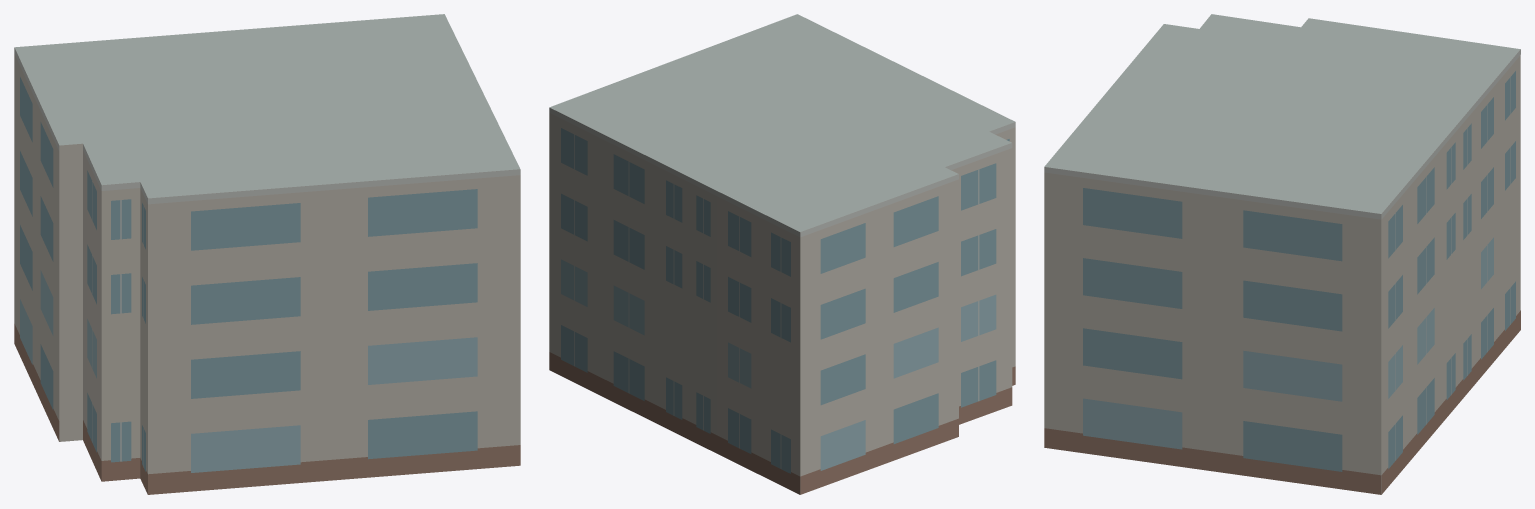
File: survey-upis-32663503.glb
3 renders of one model, left to right at view 1: azimuth 30°, elevation 25°; view 2: azimuth 150°, elevation 25°; view 3: azimuth 270°, elevation 25°, orthographic. The views are drawn at different scales.
Parts seen in each view (by area): view 1: survey-upis-32663503.tmp; view 2: survey-upis-32663503.tmp; view 3: survey-upis-32663503.tmp.
Part boxes in pixels (x1,y1,x2,y2): survey-upis-32663503.tmp: [14, 14, 520, 494]; survey-upis-32663503.tmp: [549, 14, 1015, 494]; survey-upis-32663503.tmp: [1044, 14, 1520, 494].
Size of the model in its own units: 18.65 by 12.2 by 18.77.
